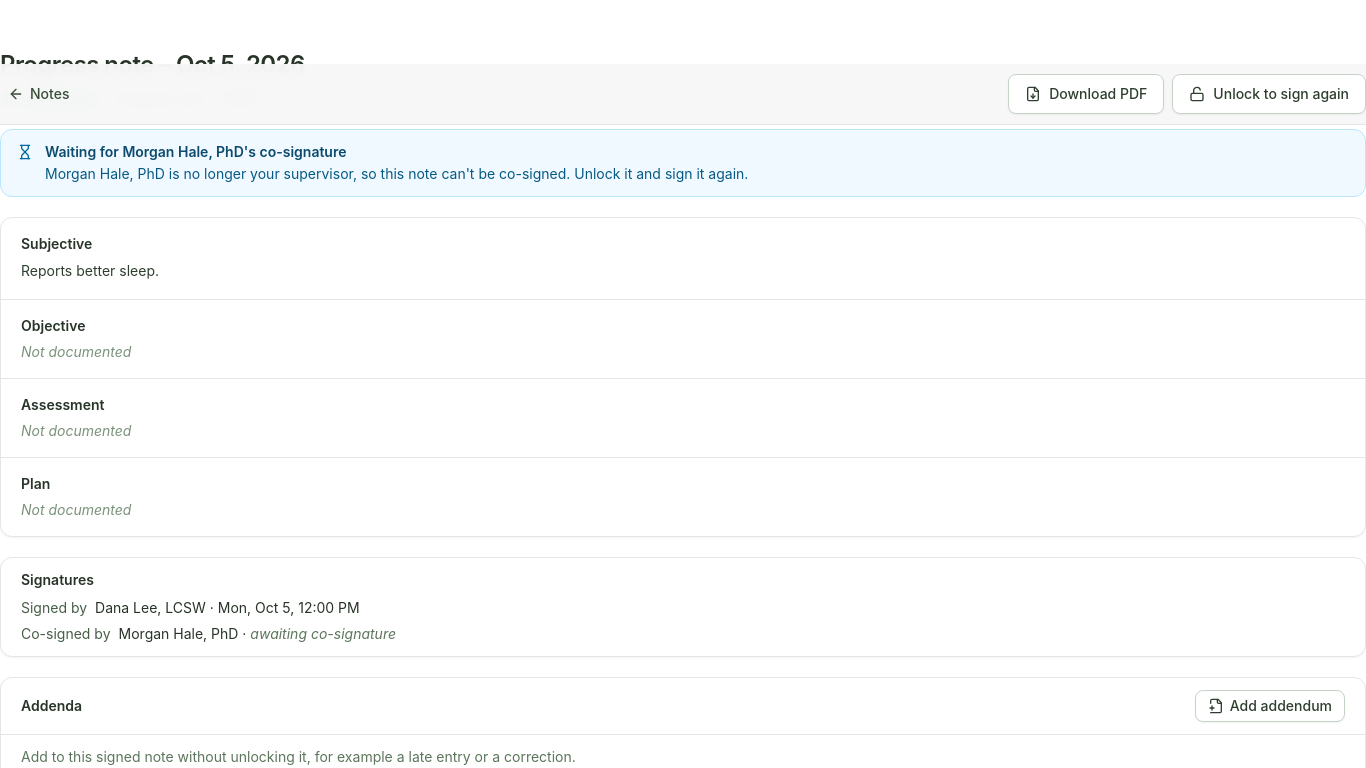
Test case: authorship and supervision › lets the author unlock a pending note once the supervisor asked is no longer theirs
Click the button "Unlock to sign again". click: point(1269, 94)
box: left=1172, top=74, right=1365, bottom=114
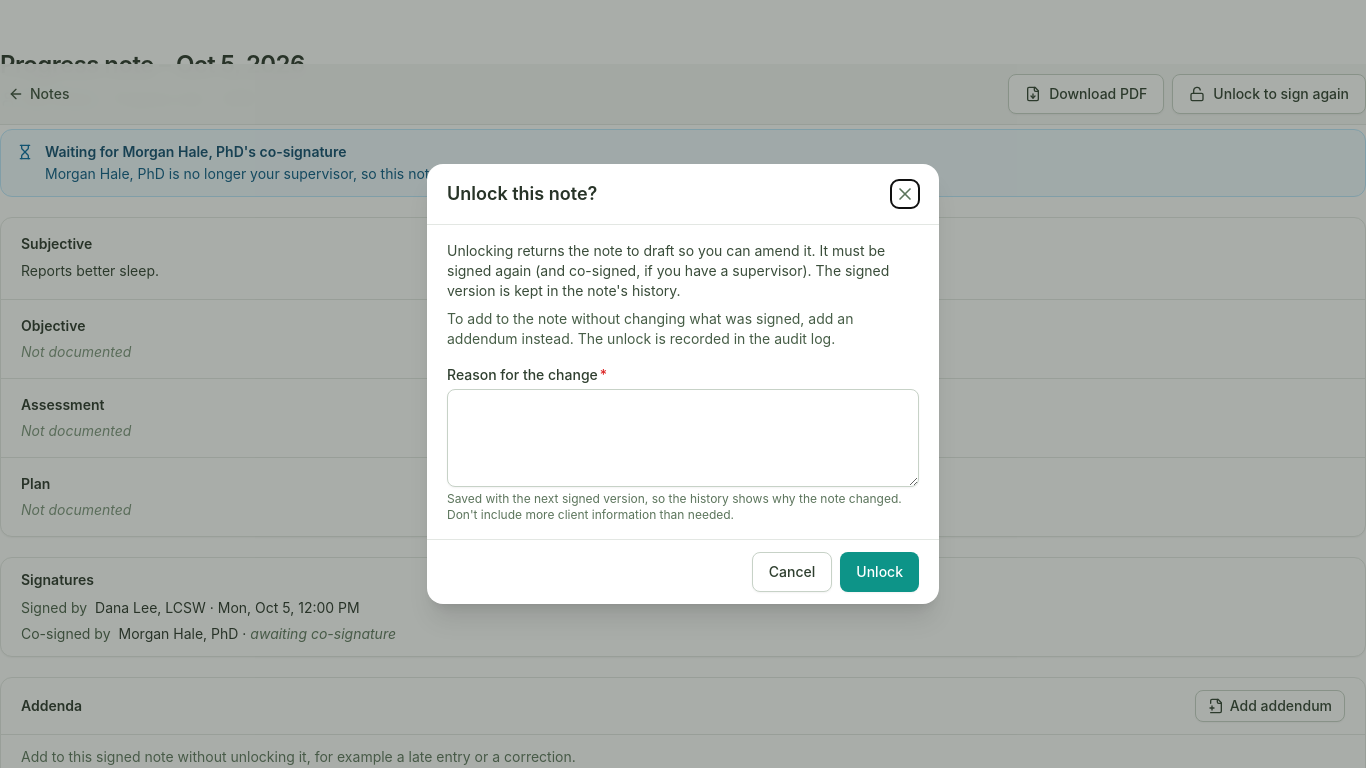
Click the button "Unlock". click: point(880, 572)
box: left=840, top=552, right=919, bottom=592
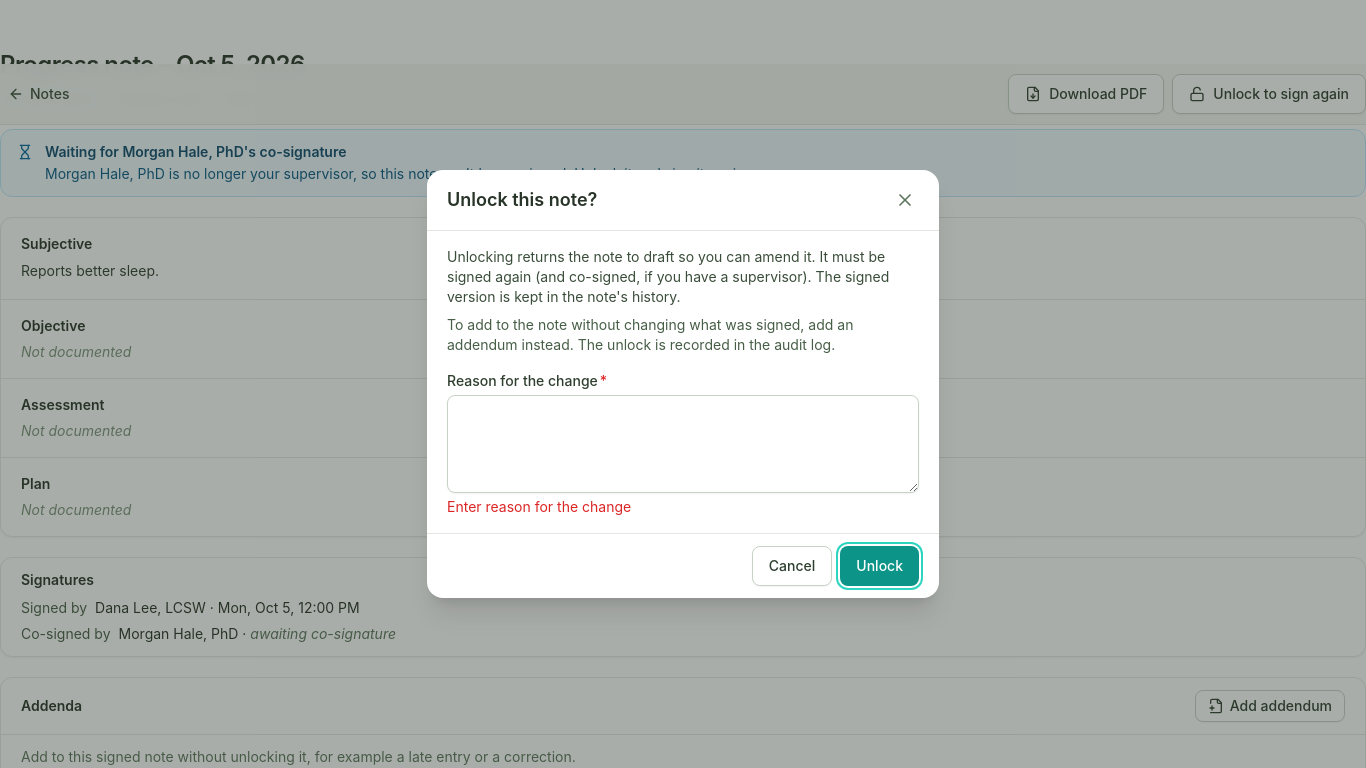
Expected: the text "Enter reason for the change" is shown, left=447, top=498, right=631, bottom=515
Type "Supervisor left the practice" into the text box labelled "Reason for the change*". click: point(683, 444)
box: left=447, top=395, right=919, bottom=493
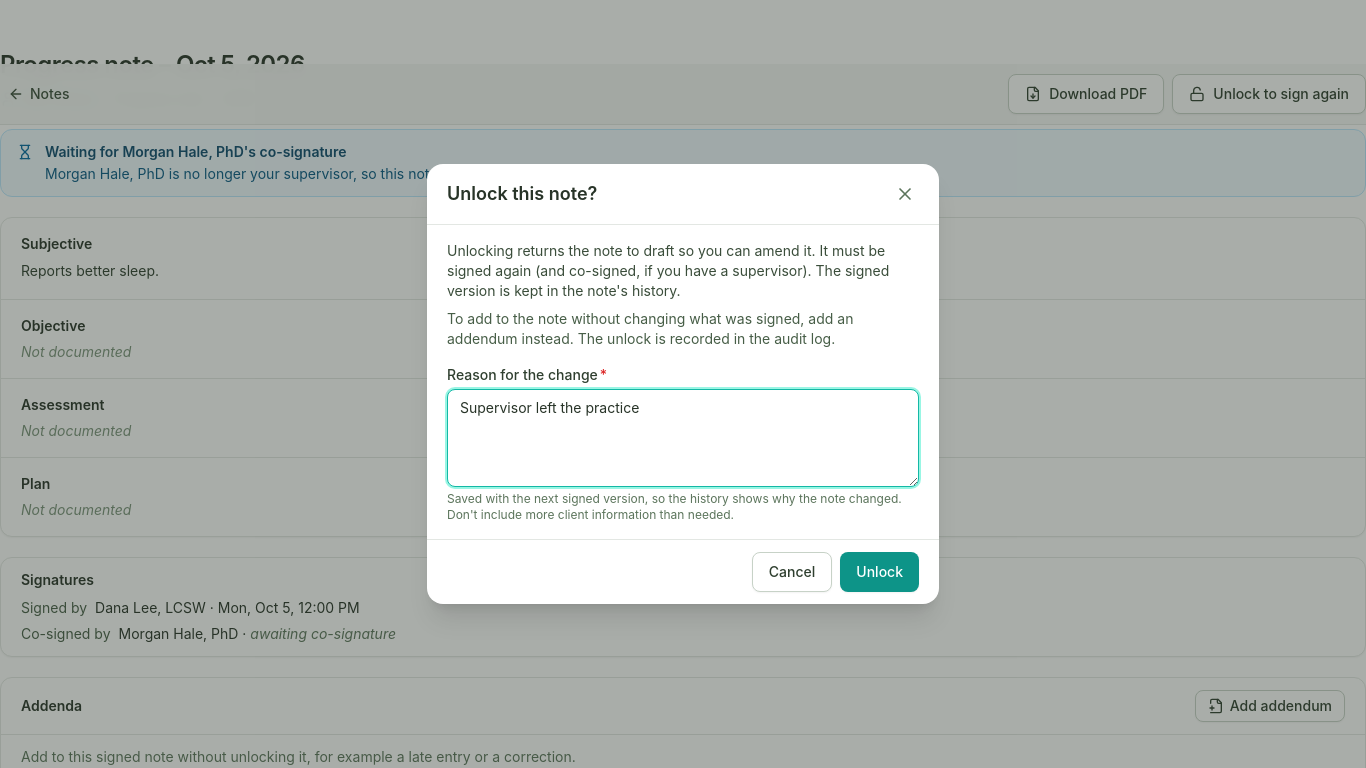
Click the button "Unlock". click: point(880, 572)
box: left=840, top=552, right=919, bottom=592
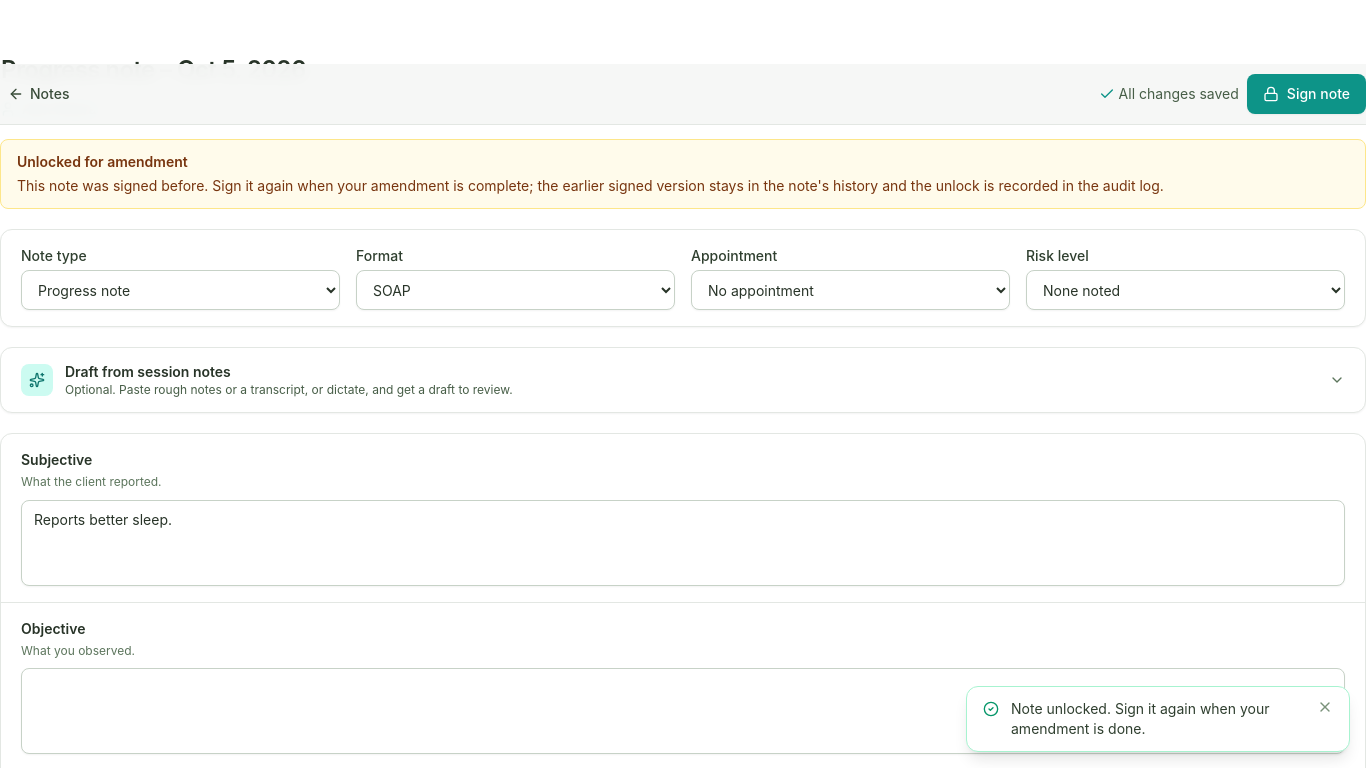
Expected: the text box labelled "Subjective" holds "Reports better sleep.", left=21, top=500, right=1345, bottom=586
